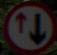Two way: (9, 6, 52, 44)
